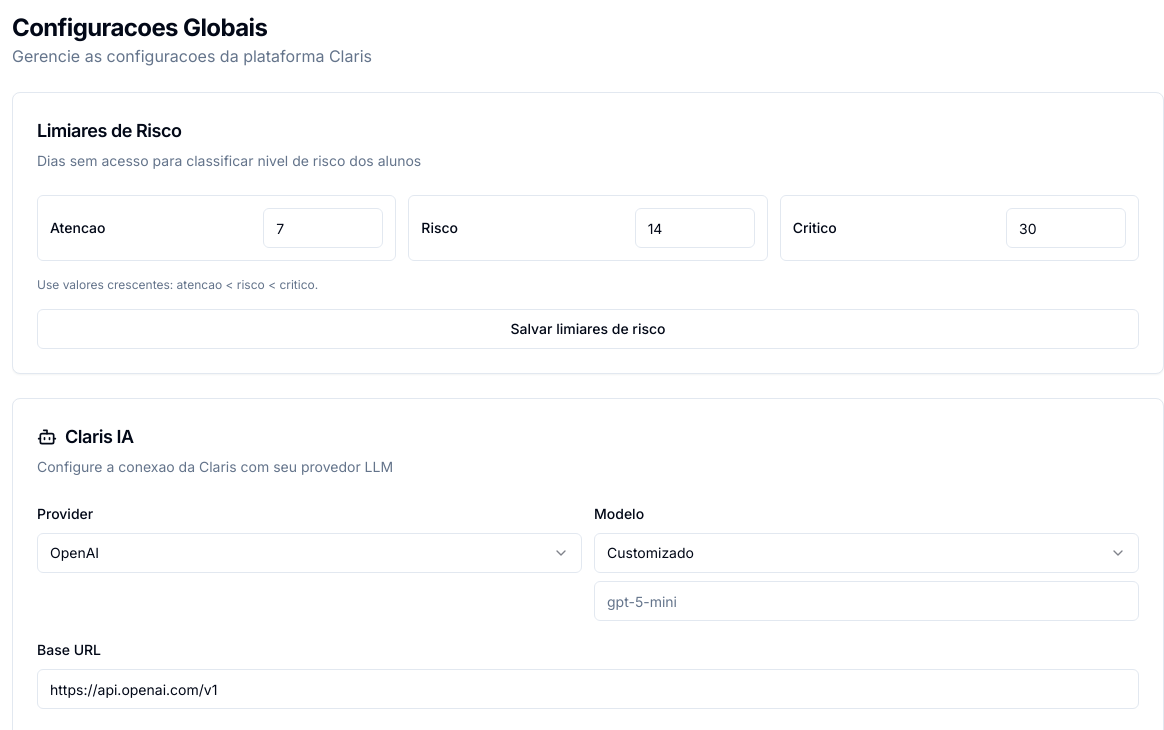
Test case: AdminConfiguracoes page › shows recommended badge for the default suggested model
The width and height of the screenshot is (1164, 730).
Click the dropdown named "modelo". click: coordinates (650, 552)
box: [594,533,1139,573]
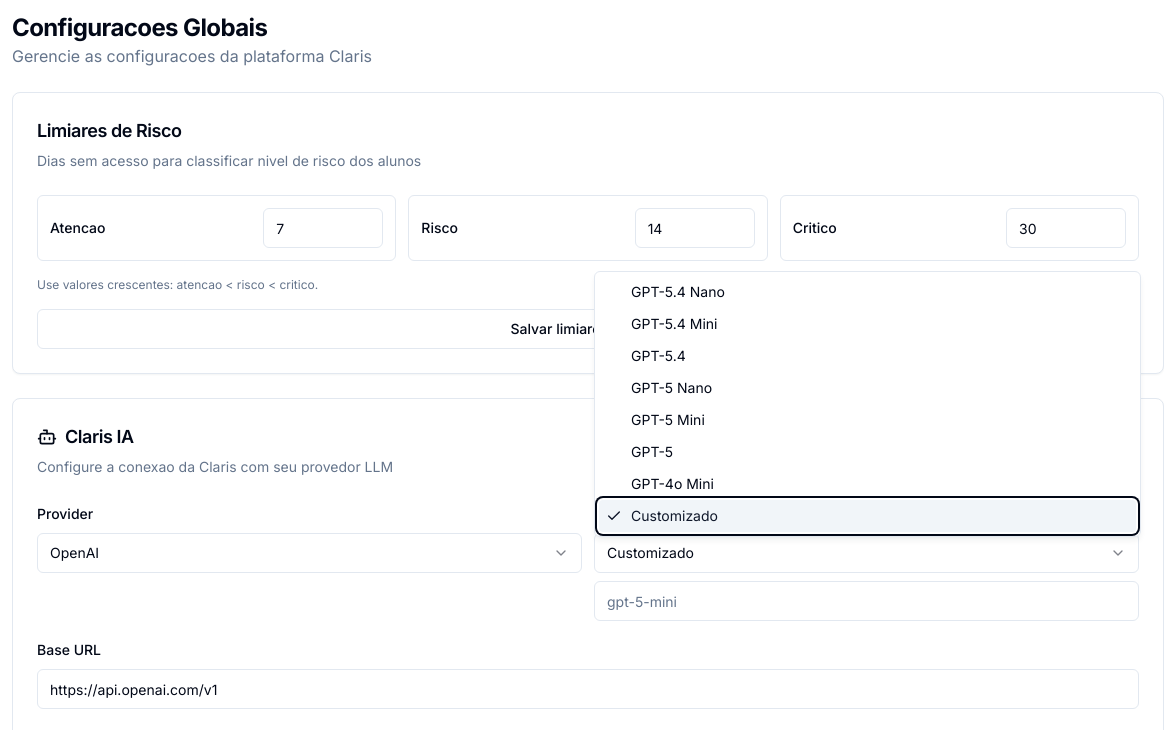
Click the option "GPT-5 Mini". click: coordinates (668, 420)
box: [631,411,705,428]
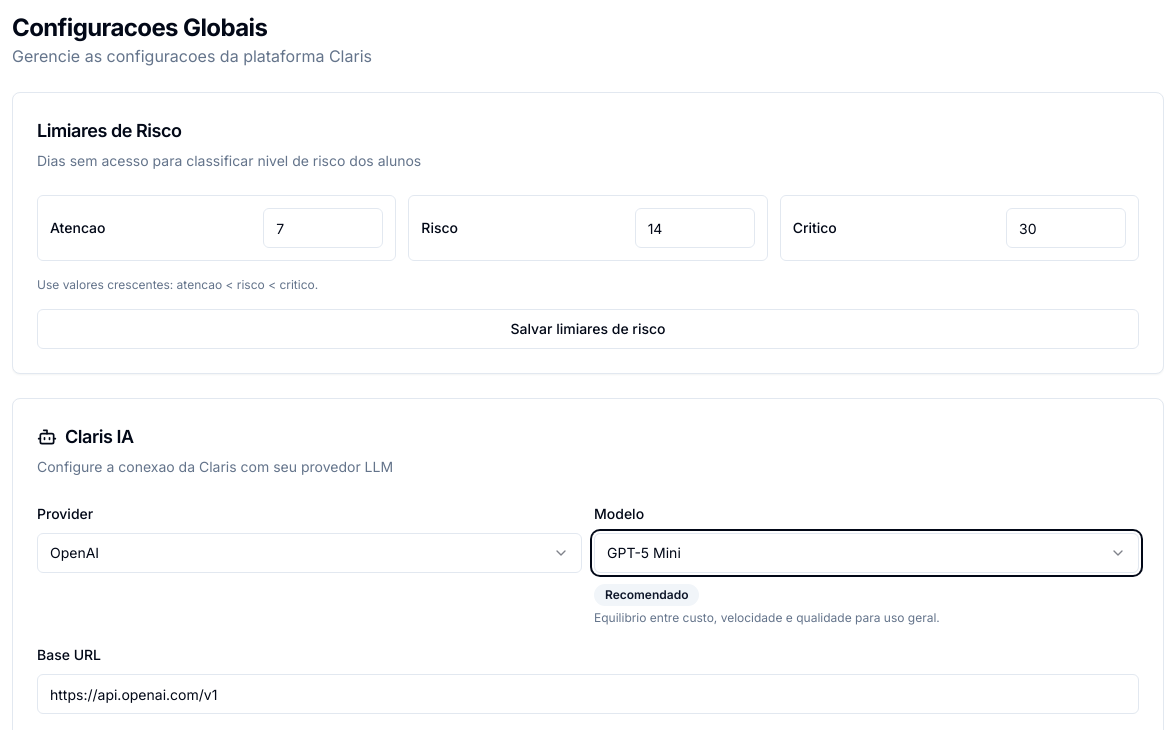
Check: the text "Recomendado" is shown, box [594,584,700,606]
